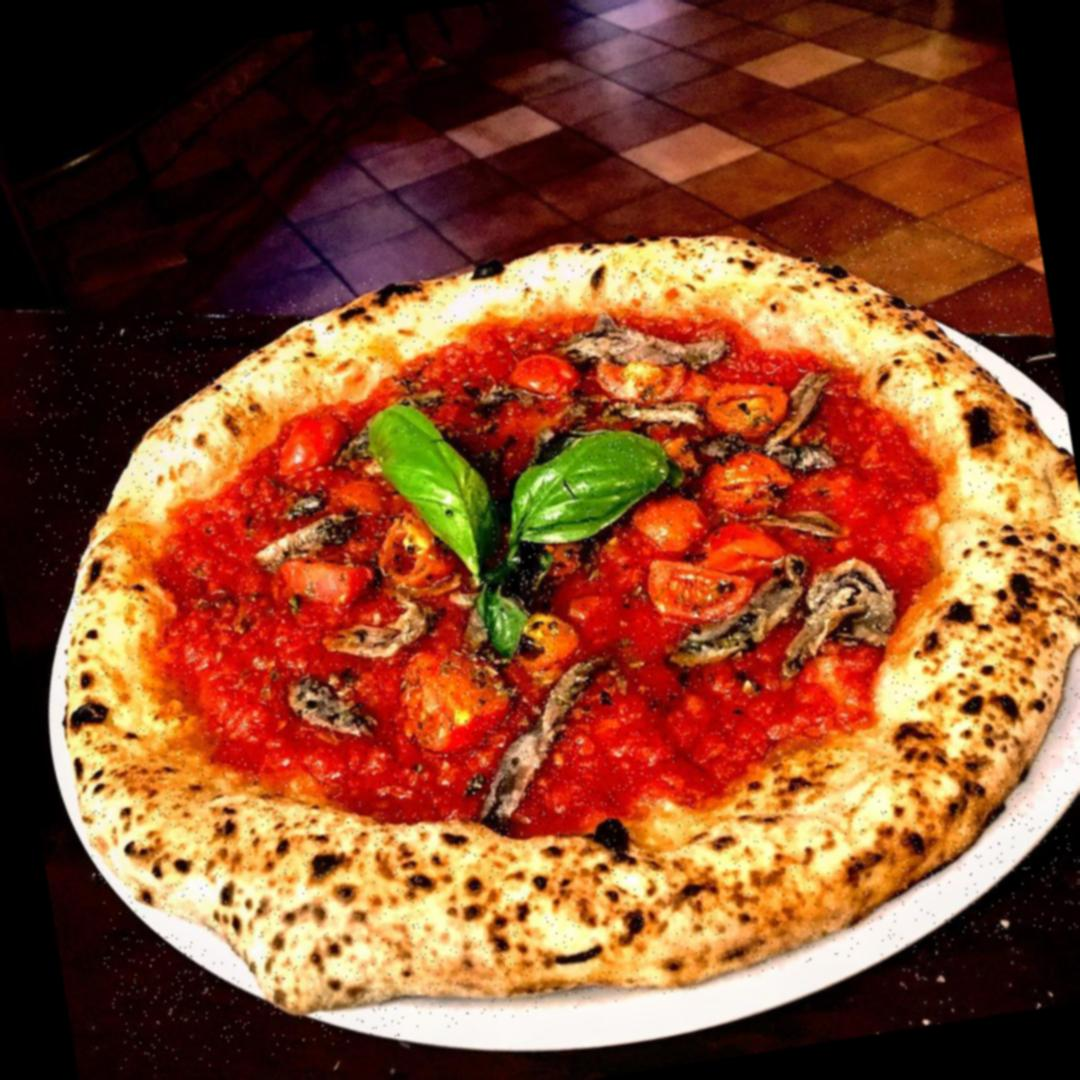Basil: (366, 398, 494, 592), (503, 428, 664, 572)
Chicken: (637, 534, 898, 688), (474, 660, 625, 825), (568, 294, 732, 378), (268, 644, 395, 748), (252, 498, 370, 579), (761, 368, 844, 461)
Pizza: (4, 174, 1080, 1079)
Tomatoes: (632, 538, 744, 640), (396, 652, 502, 746), (372, 505, 456, 606), (274, 550, 376, 622), (698, 514, 796, 585), (273, 406, 351, 490), (513, 342, 594, 416), (596, 350, 686, 413), (632, 503, 702, 572), (712, 460, 782, 518), (714, 391, 778, 454), (505, 612, 564, 680)
